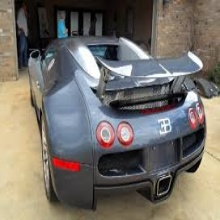no damage: (27, 34, 207, 210)
